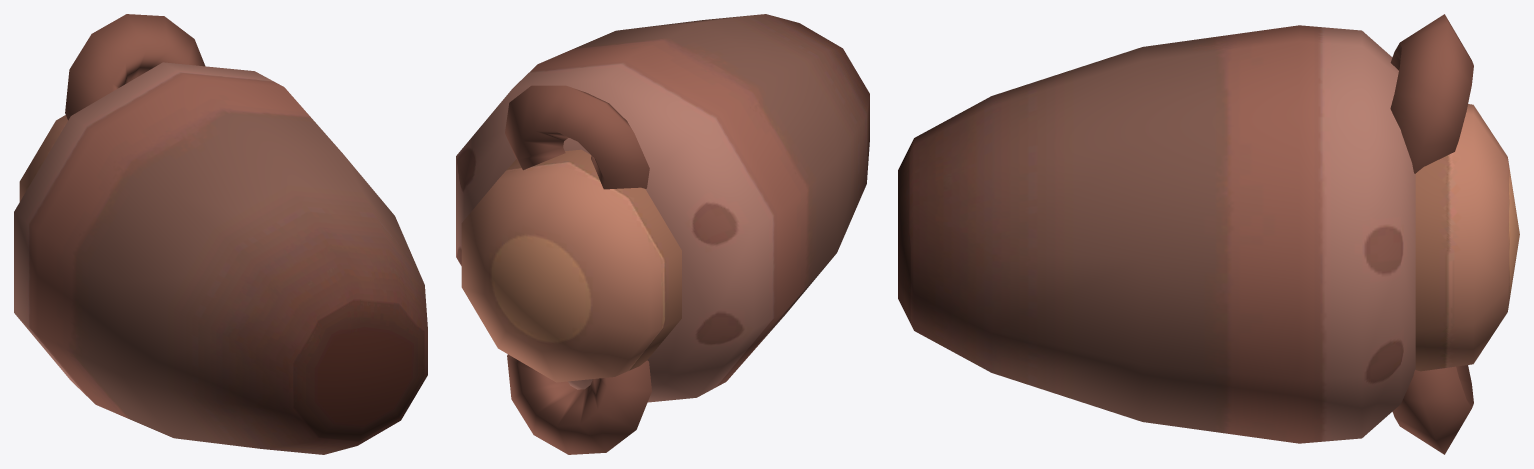
Rendered from Pottery_01_Solid.fbx.
The picture shows the model from 3 angles, left to right: view 1: azimuth 30°, elevation 25°; view 2: azimuth 150°, elevation 25°; view 3: azimuth 270°, elevation 25°; orthographic projection. The views are drawn at different scales.
Visible parts, largest first — view 1: Pottery_01_Solid; view 2: Pottery_01_Solid; view 3: Pottery_01_Solid.
Boxes of the visible parts, x1,y1,x2,y2 form: Pottery_01_Solid: (14, 14, 427, 454); Pottery_01_Solid: (456, 14, 869, 454); Pottery_01_Solid: (898, 14, 1519, 454).
Bounding box in the file's own units: 152 × 176 × 233.
Materials: 1 (1 with a texture image).
